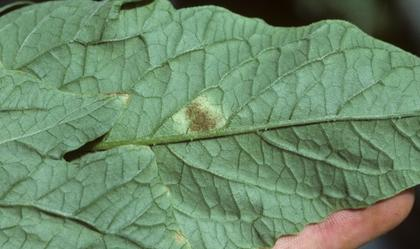Tomato mold leaf: (0, 0, 420, 249), (0, 49, 258, 249)
